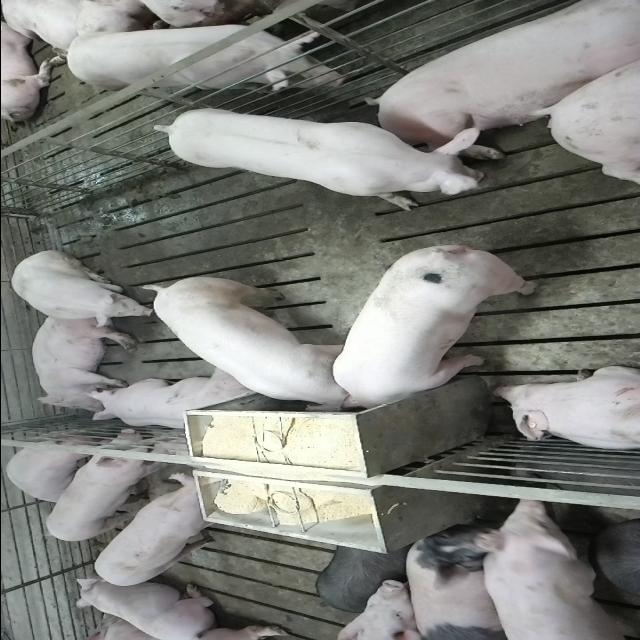Feeding: (331, 249, 539, 419), (138, 274, 362, 410)
Lateral_lying: (28, 314, 136, 414)
Sitting: (8, 250, 156, 328)
Standing: (148, 104, 508, 208), (64, 0, 378, 101), (448, 499, 640, 638), (91, 474, 235, 588), (43, 431, 168, 542), (399, 528, 508, 638), (312, 542, 418, 612)
Sternal_lying: (490, 365, 640, 453), (86, 372, 260, 433), (72, 580, 222, 638)
